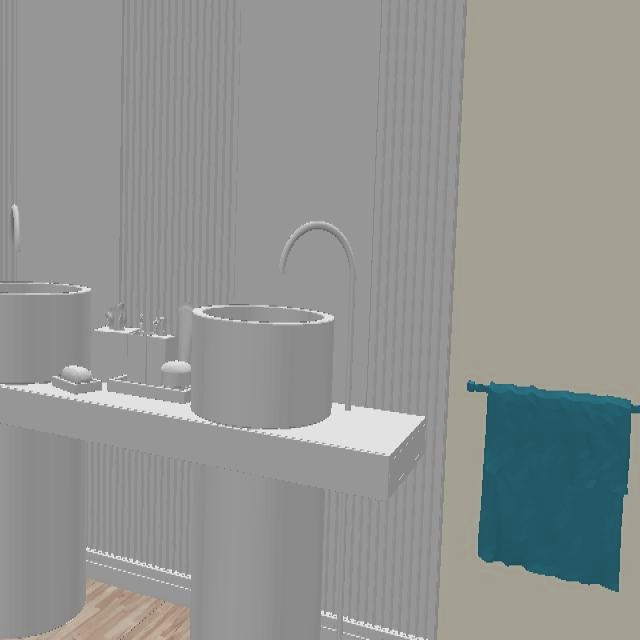washbasin: (191, 304, 333, 429), (0, 281, 92, 385)
